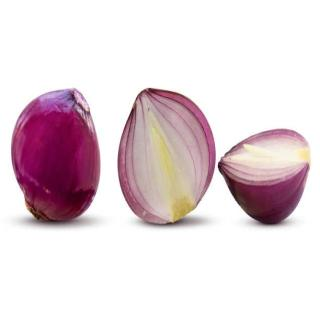Bawang Merah: (116, 86, 219, 227), (9, 86, 105, 228)
